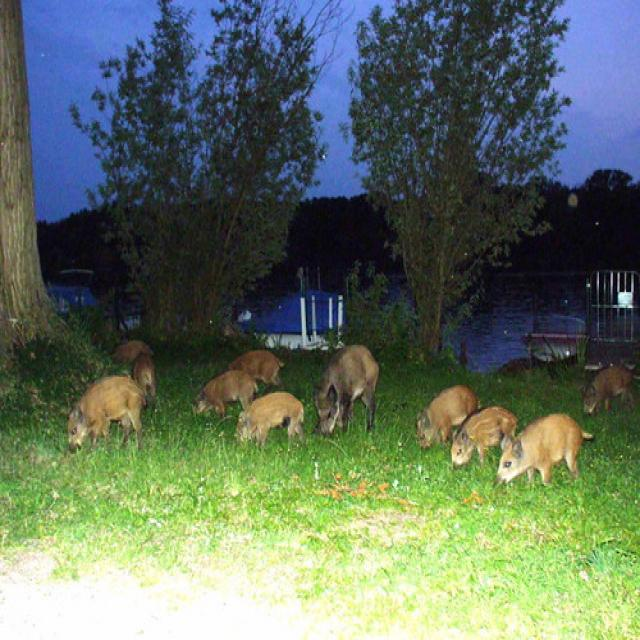boar: (493, 404, 595, 500), (55, 368, 150, 452), (305, 340, 386, 436), (228, 384, 308, 462), (447, 399, 521, 477), (411, 380, 481, 450), (579, 354, 639, 432), (190, 366, 266, 420), (218, 346, 294, 387), (124, 346, 165, 396)
